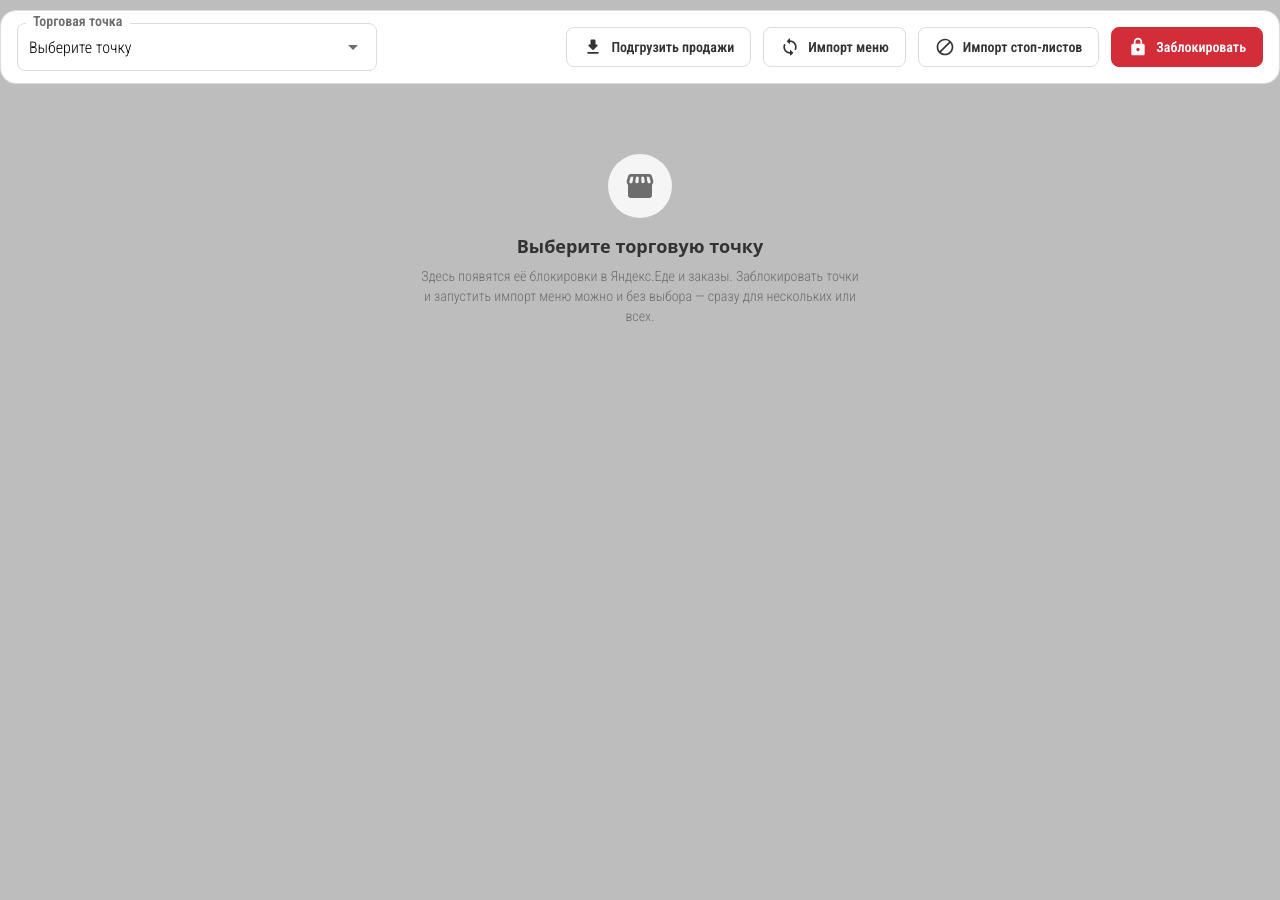
Test: keeps the reason required and does not send the block without it
This screenshot has width=1280, height=900.
Click the button named "Торговая точка" at (80, 47), box [17,23,377,71]
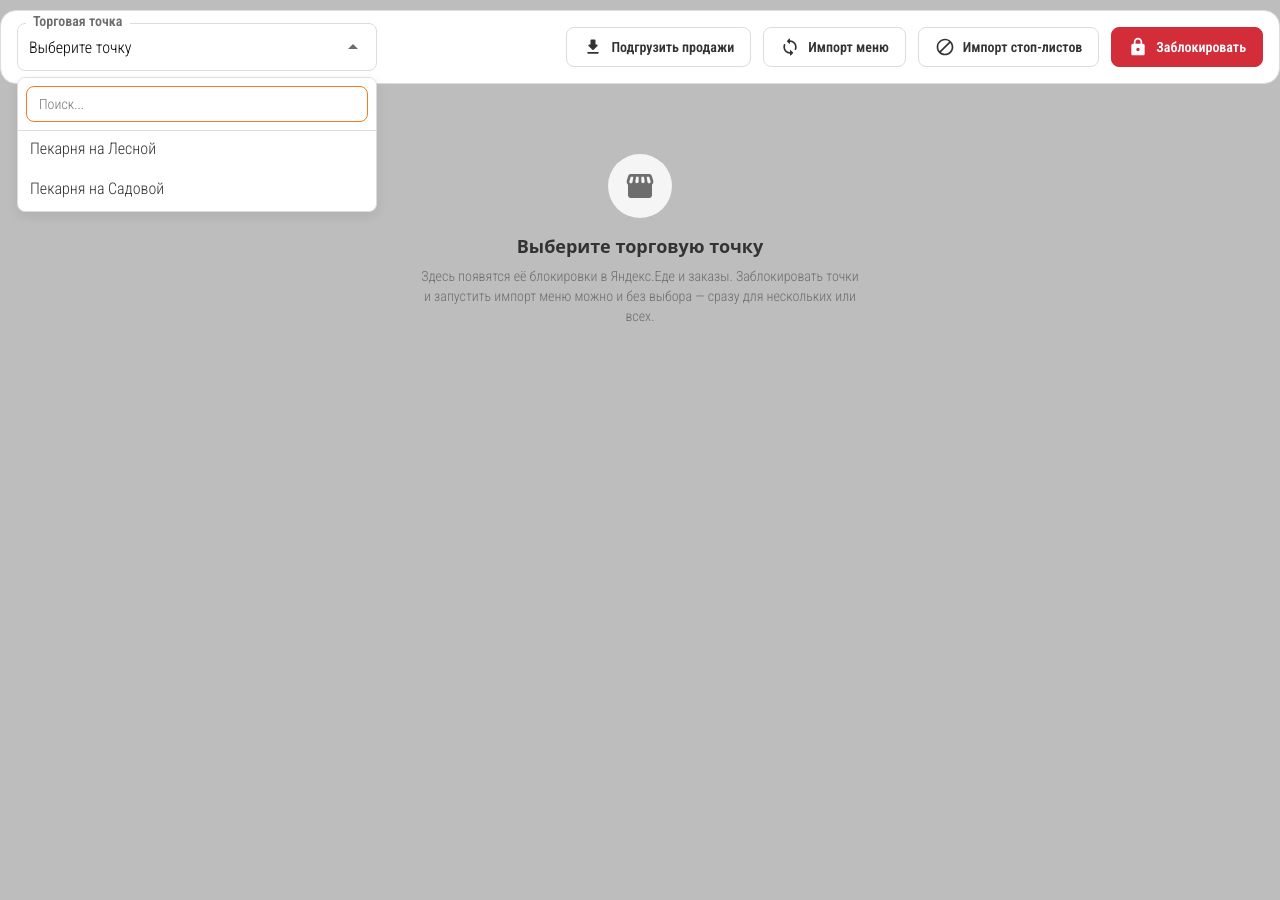
Click the option "Пекарня на Лесной" at (93, 148), box [30,139,156,158]
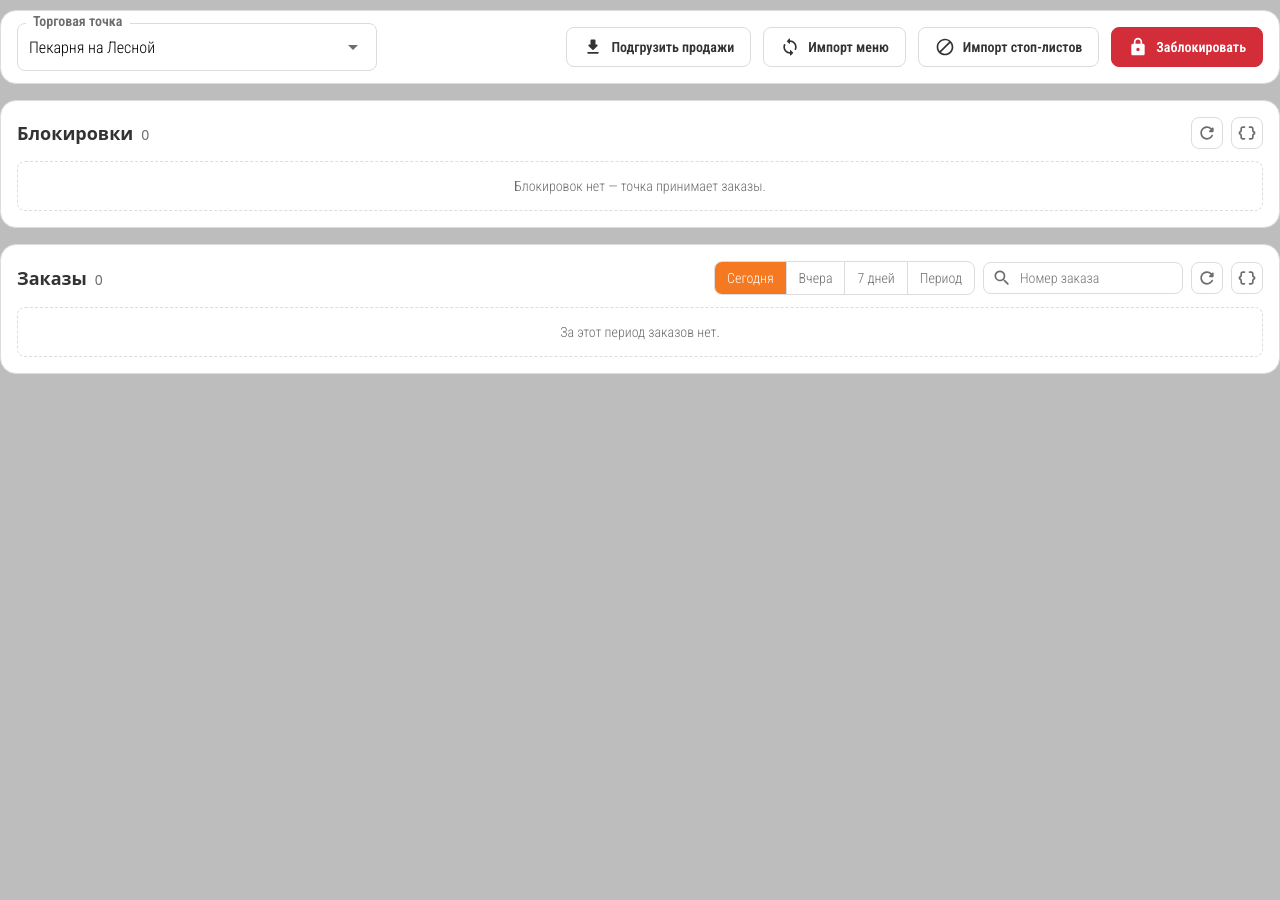
Click the button "Заблокировать" at (1187, 47), box [1111,27,1263,67]
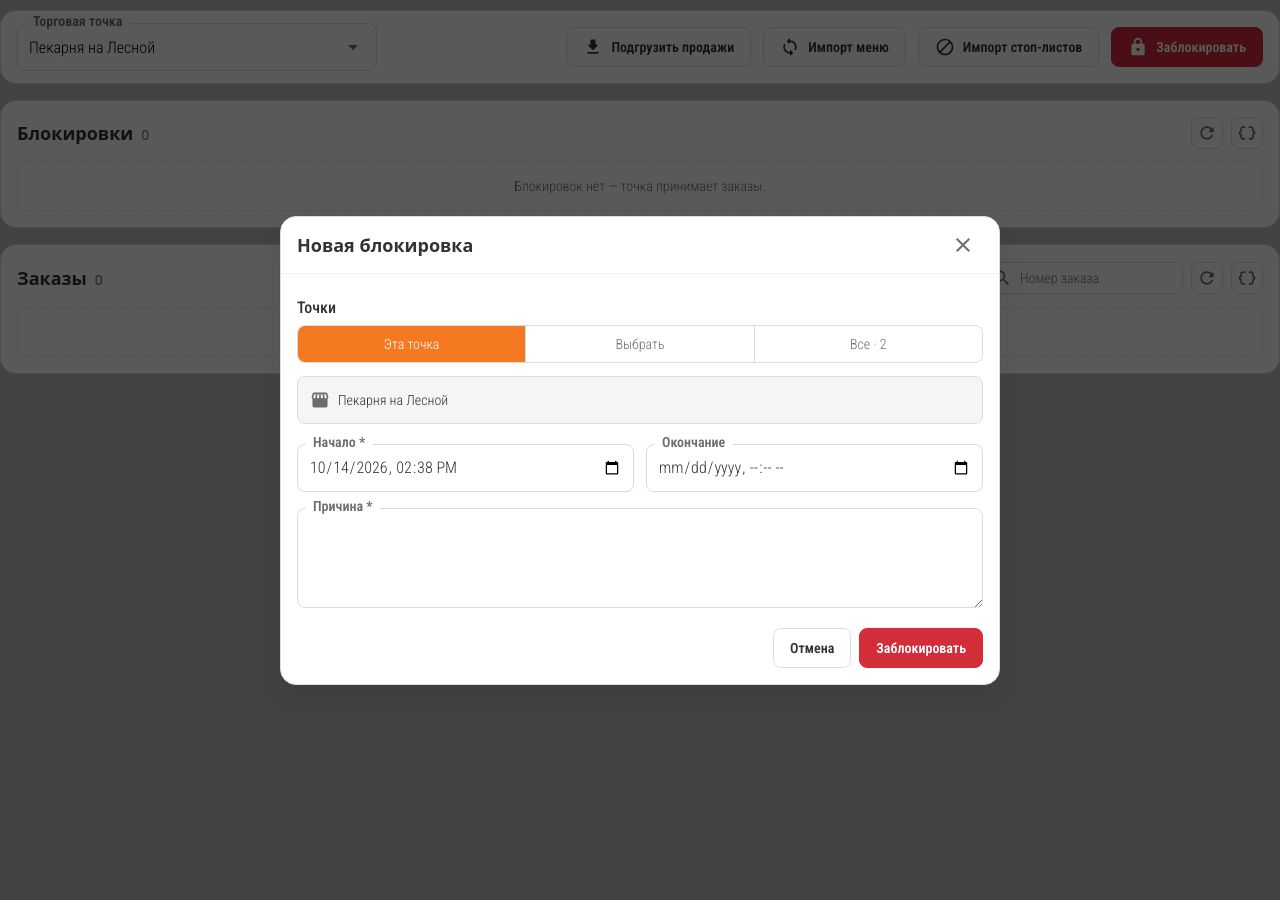
Click the button "Заблокировать" at (921, 648), box [859,628,983,668]
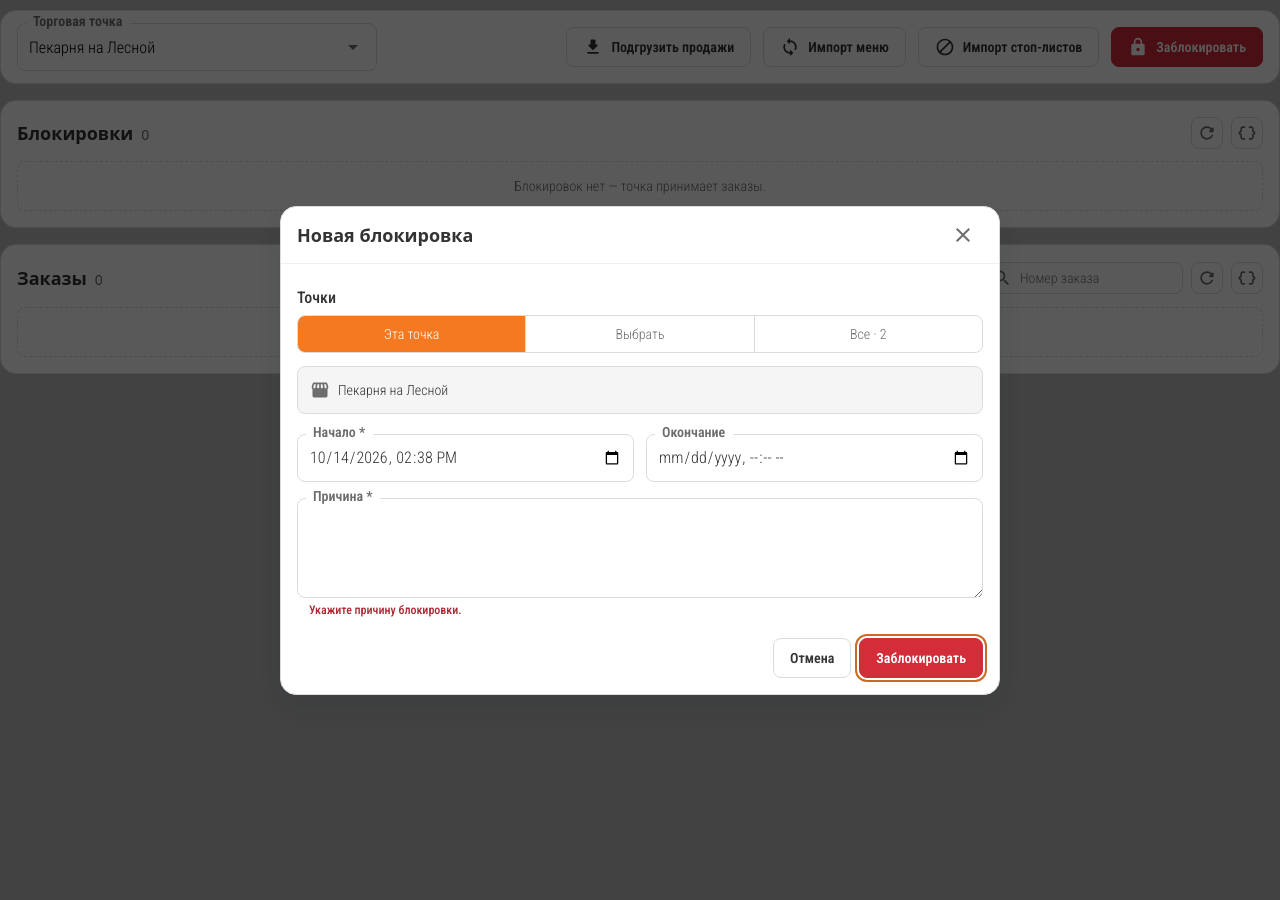
Now the text "Укажите причину блокировки." is shown, box [309,602,462,616]
